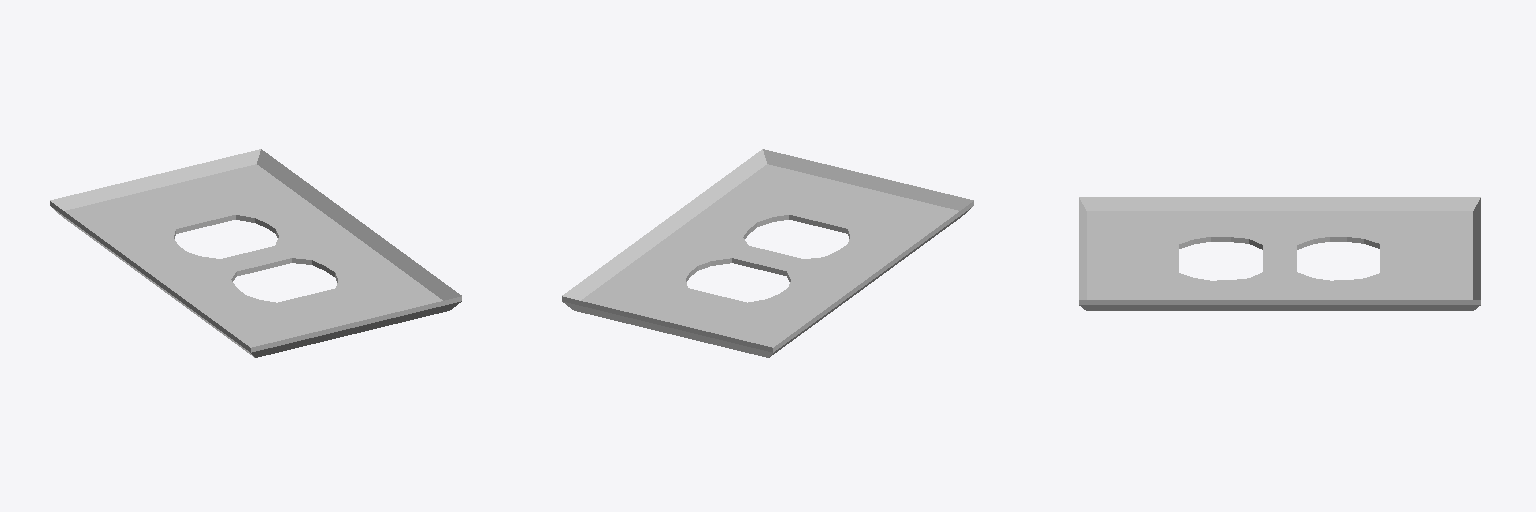
The model's file is RecepticalCover.obj.
The picture shows the model from 3 angles: view 1: azimuth 30°, elevation 25°; view 2: azimuth 150°, elevation 25°; view 3: azimuth 270°, elevation 25°; orthographic projection.
Parts seen in each view (by area): view 1: Cube.005_Cube.006; view 2: Cube.005_Cube.006; view 3: Cube.005_Cube.006.
Boxes of the visible parts, x1,y1,x2,y2 form: Cube.005_Cube.006: [50, 149, 461, 357]; Cube.005_Cube.006: [562, 149, 973, 357]; Cube.005_Cube.006: [1079, 197, 1480, 310].
Size of the model in its own units: 3.81 by 0.2628 by 6.28.